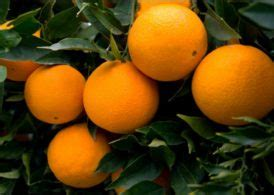orange: (192, 42, 274, 127), (126, 2, 209, 83), (80, 58, 161, 135), (20, 60, 95, 125), (43, 122, 113, 190)
